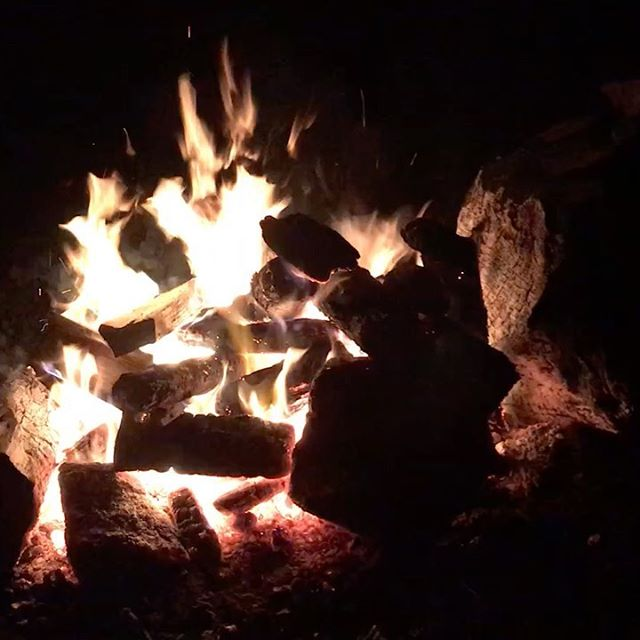fireplace: (1, 70, 537, 600)
